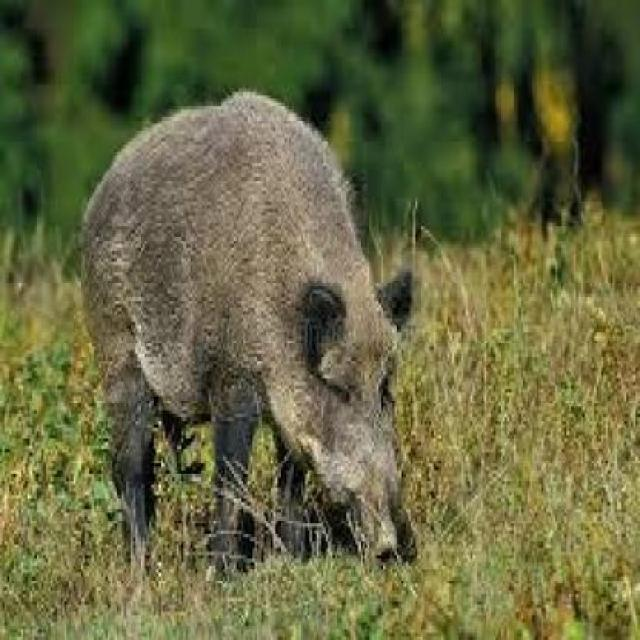wildboar: (79, 83, 418, 580)
